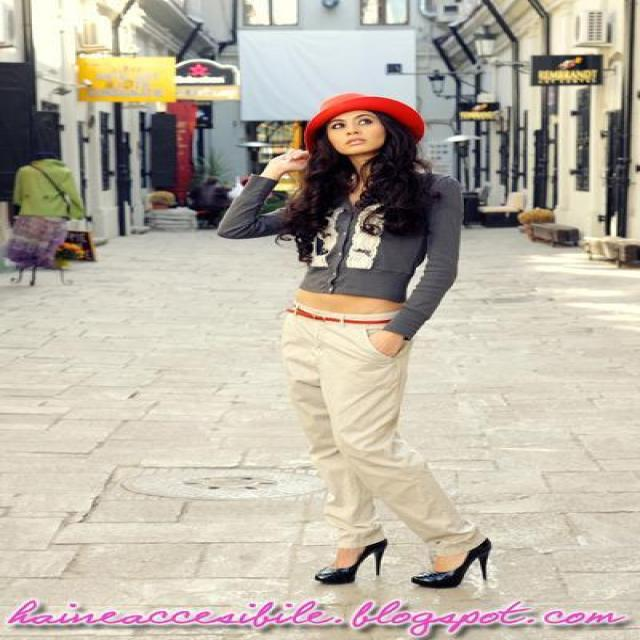hat: (308, 97, 422, 131)
pants: (272, 305, 461, 549)
shirt: (217, 167, 478, 340)
shoe: (315, 538, 490, 588)
